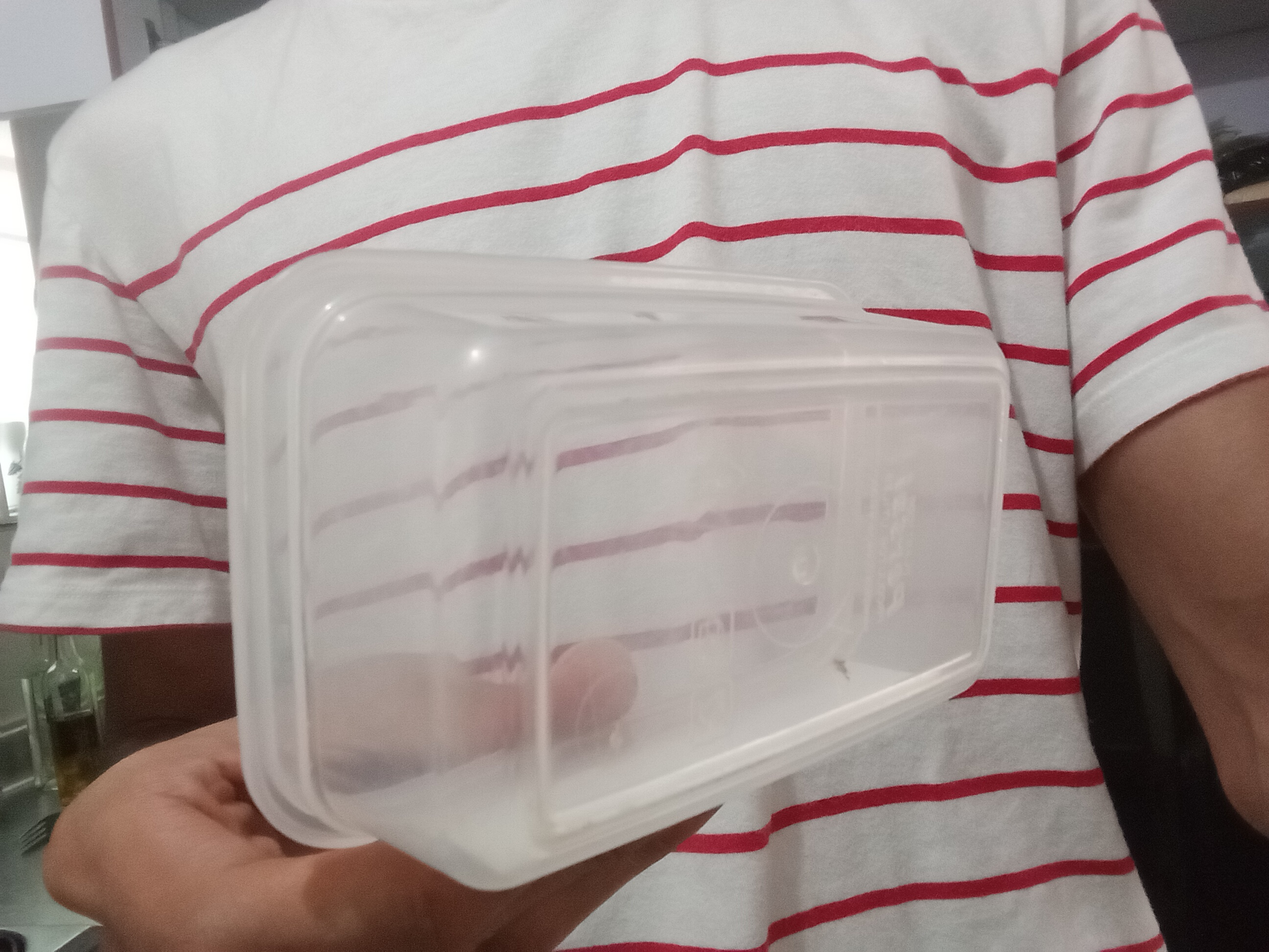Plastico: (222, 247, 1009, 892)
